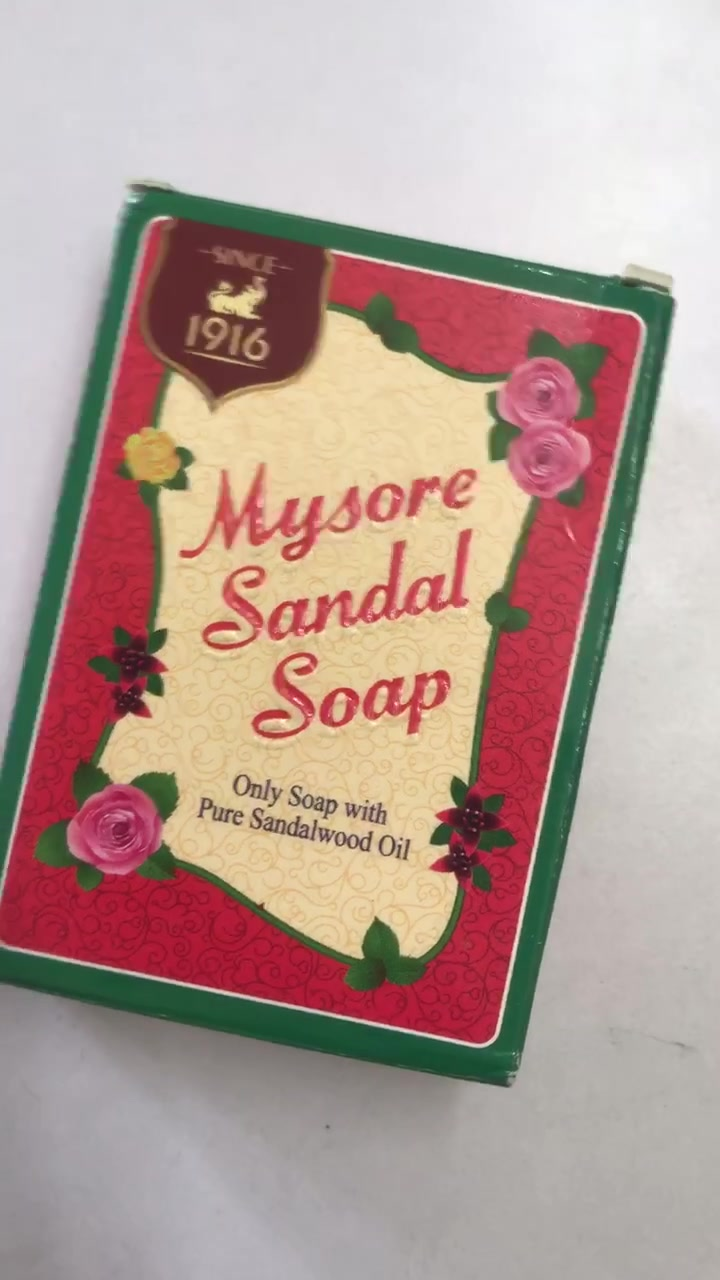mysore sandal soap: (2, 191, 667, 1084)
